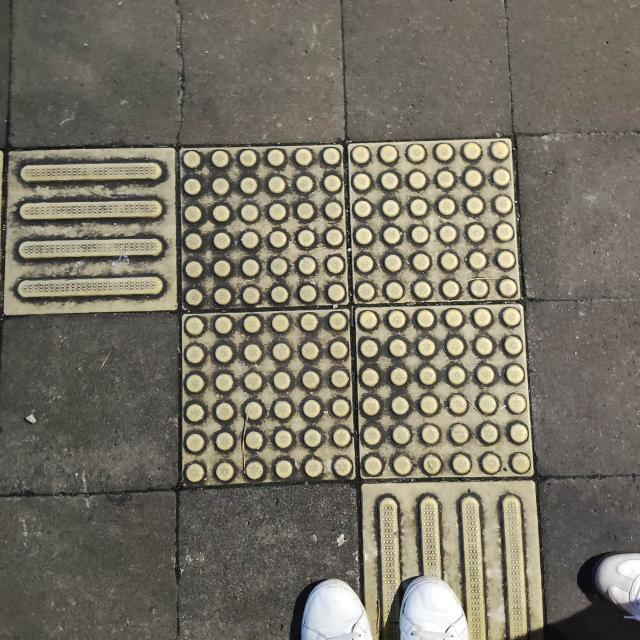kiri: (0, 109, 640, 580)
